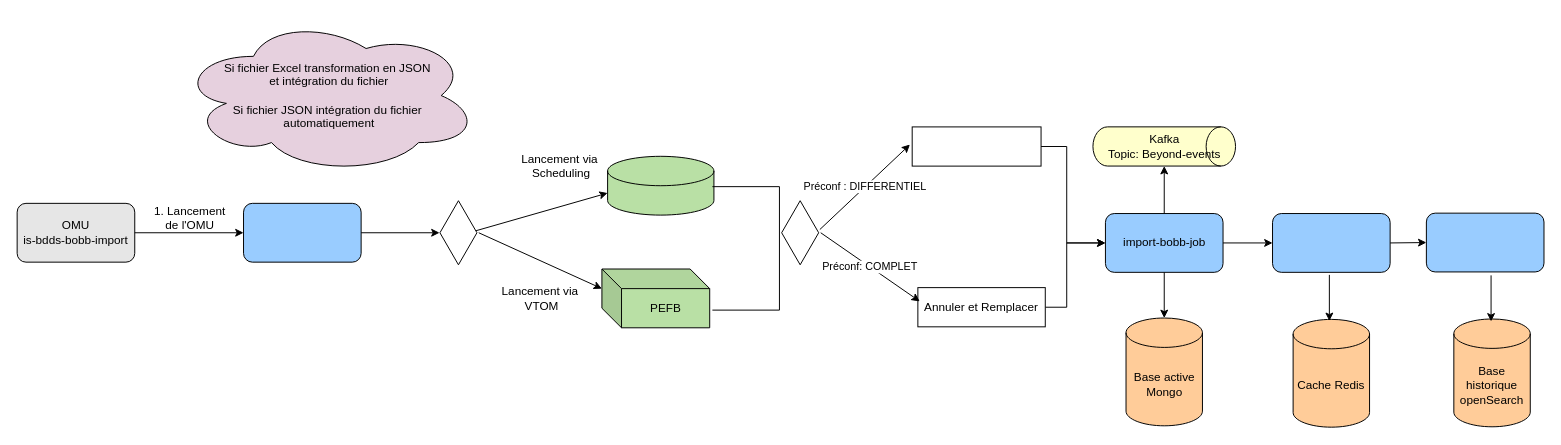
The diagram is 1561 pixels wide and 445 high, and some of its shapes have lost their labels. Here are the shapes that lost their labels. From the top down, the box of each, then its label:
(911, 126, 1041, 166): Création/Modification/ Suppression logique
(607, 155, 714, 215): Espace Personnel
(243, 202, 361, 262): transfo-bobb-job
(1272, 213, 1390, 272): bobb-cache-sync-job
(1425, 212, 1544, 272): bobb-historization-job
